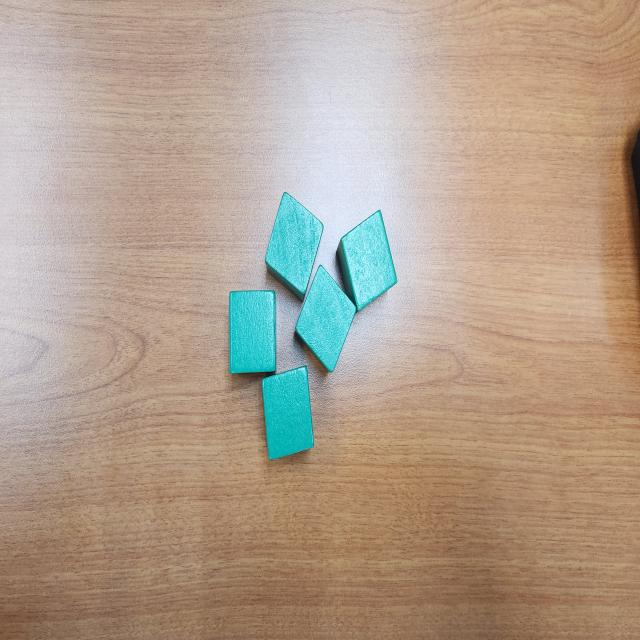green: (296, 264, 359, 372), (264, 191, 325, 302), (335, 209, 398, 311), (262, 364, 315, 458), (228, 289, 278, 375)
